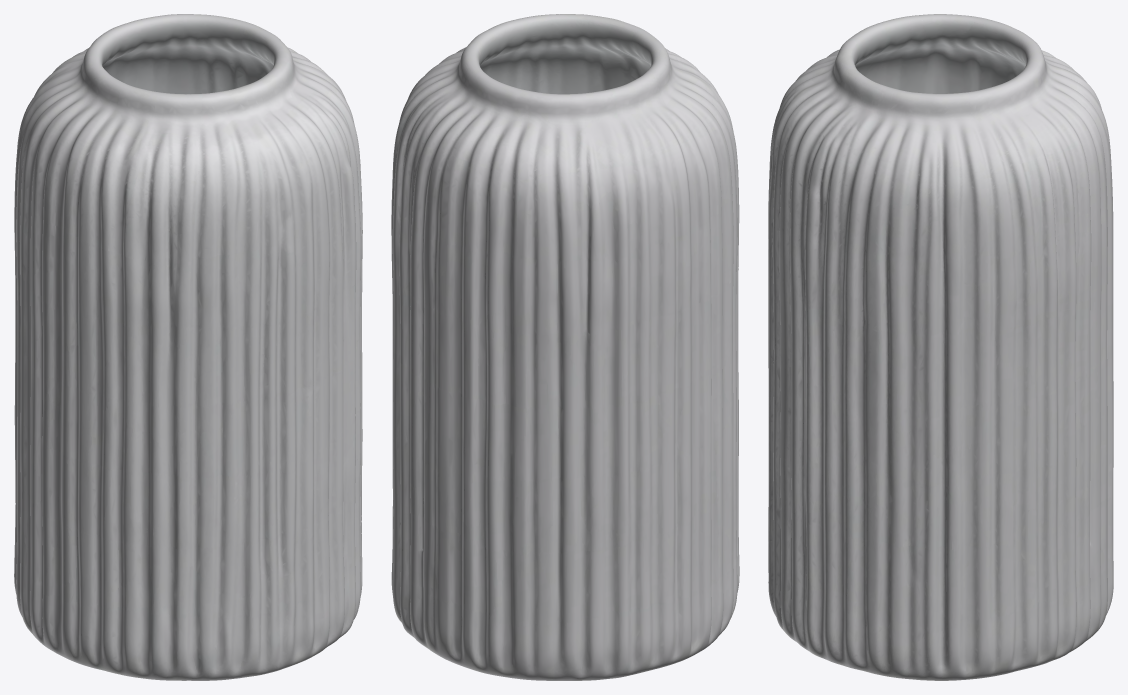
File: ribbed-ceramic-vase-for-home-decor-modern-minimali-light.glb
3 views of the same model, side by side, from view 1: azimuth 30°, elevation 25°; view 2: azimuth 150°, elevation 25°; view 3: azimuth 270°, elevation 25° (orthographic).
Parts seen in each view (by area): view 1: mesh_node; view 2: mesh_node; view 3: mesh_node.
Boxes of the visible parts, x1,y1,x2,y2 form: mesh_node: (14,14,362,680); mesh_node: (391,14,739,680); mesh_node: (768,14,1113,680).
Size of the model in its own units: 1.07 by 1.9 by 1.06.
1 material, 1 textured.
